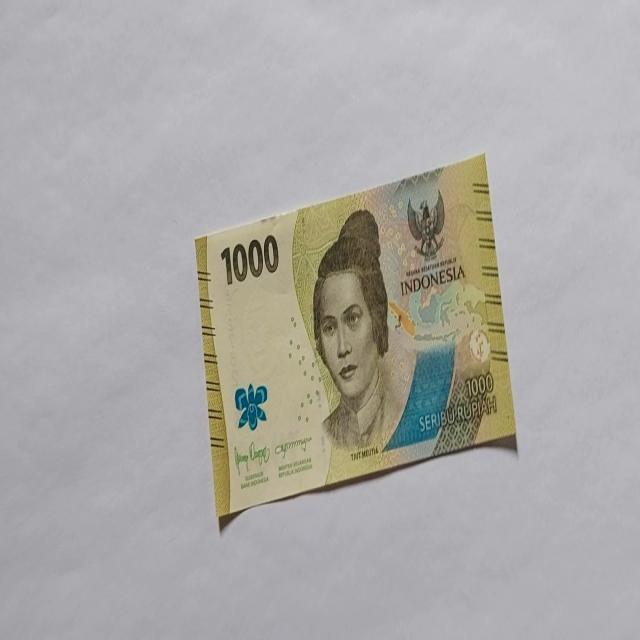seribu rupiah kertas: (194, 152, 517, 520)
